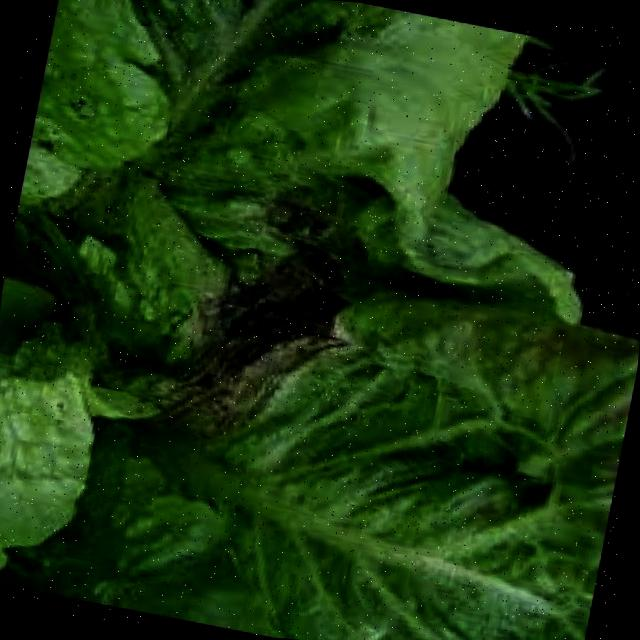Downy_mildew: (229, 413, 601, 640), (0, 352, 135, 553)
